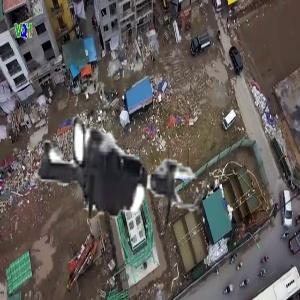drone: (3, 55, 219, 271)
